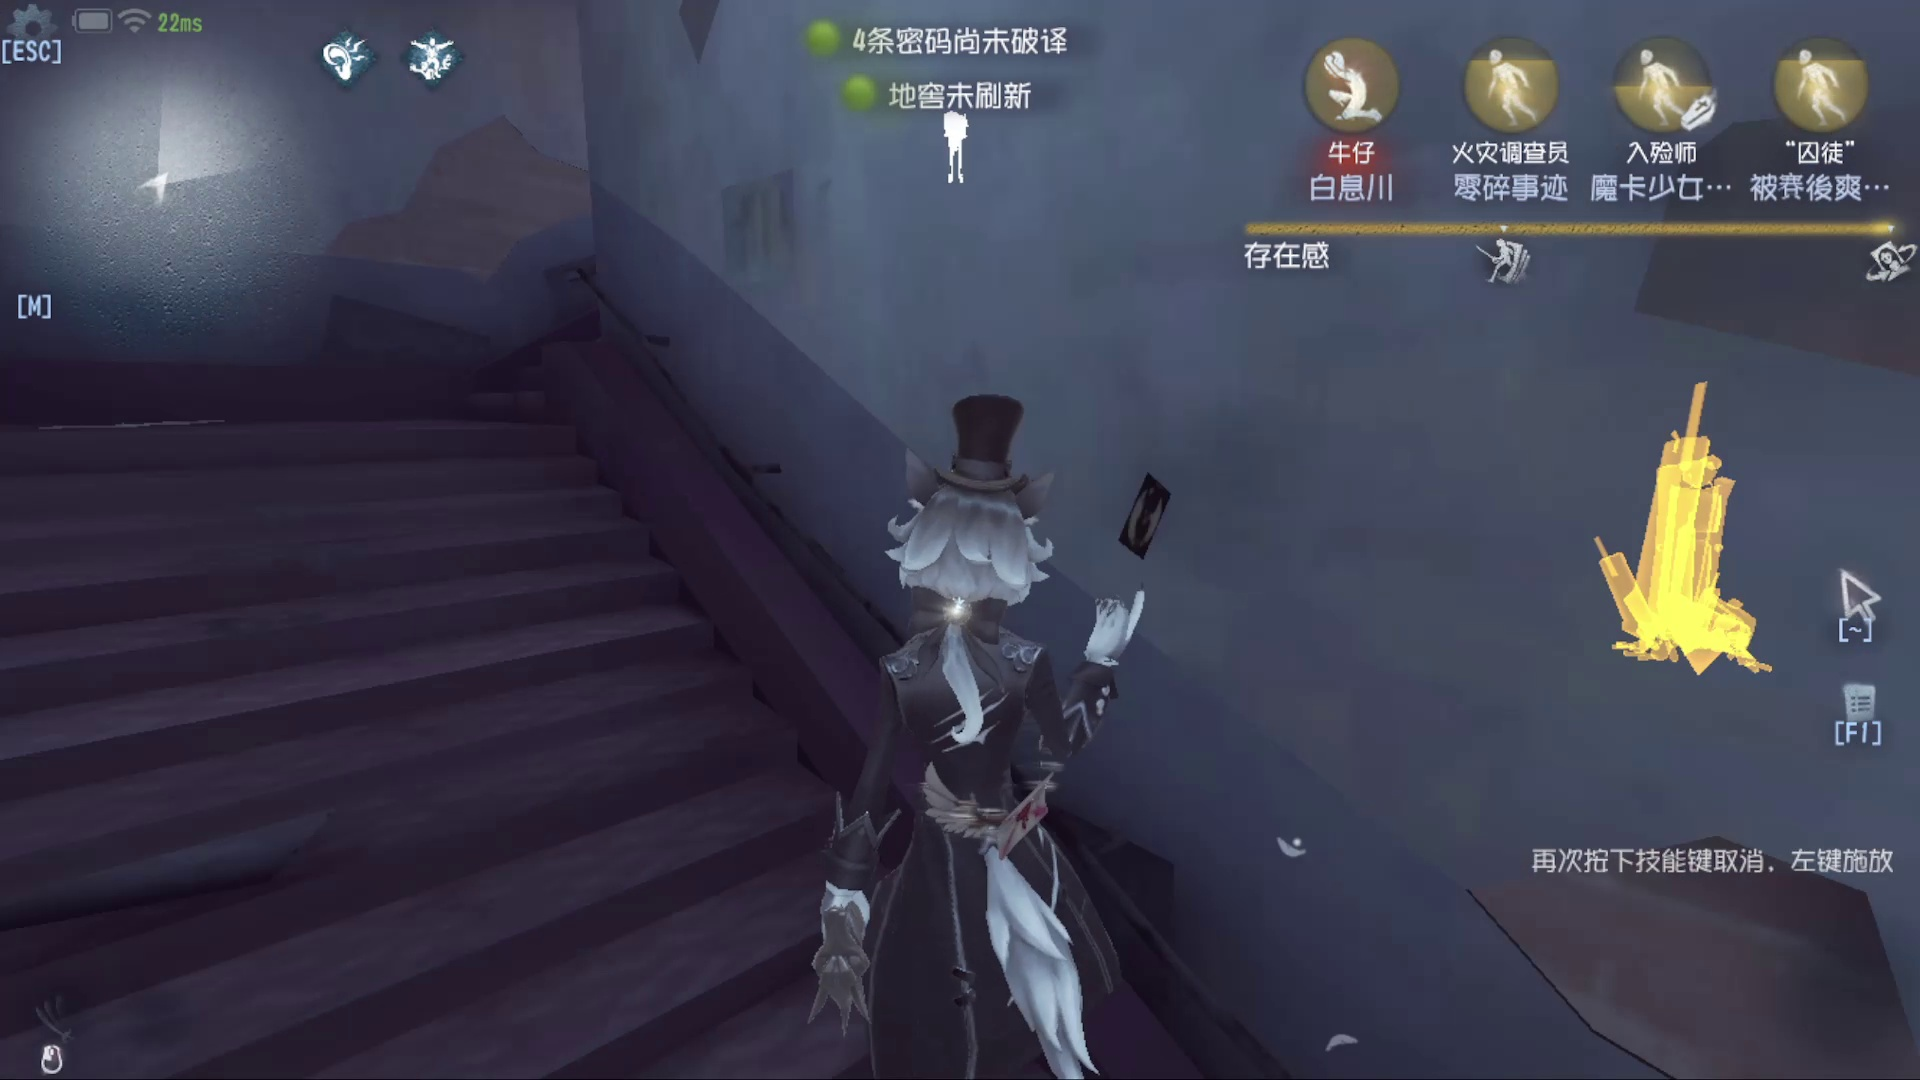狂欢之椅: (1542, 367, 1787, 694)
